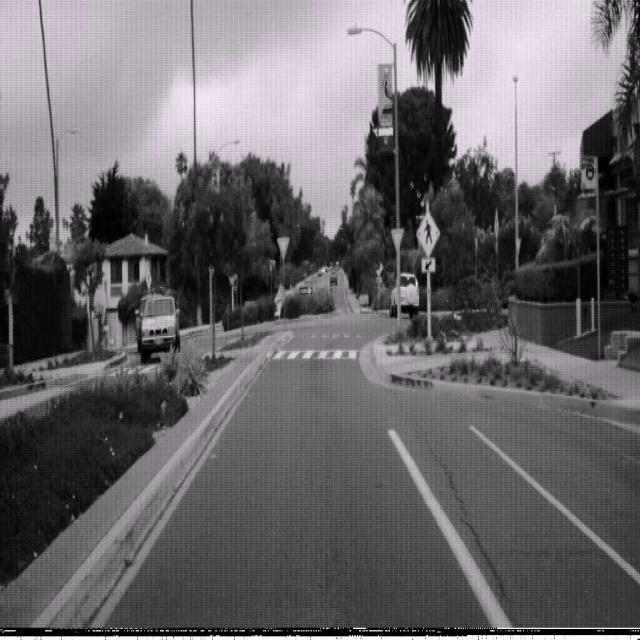pedestrianCrossing: (416, 208, 440, 258)
yield: (390, 227, 404, 252), (276, 235, 290, 260)
